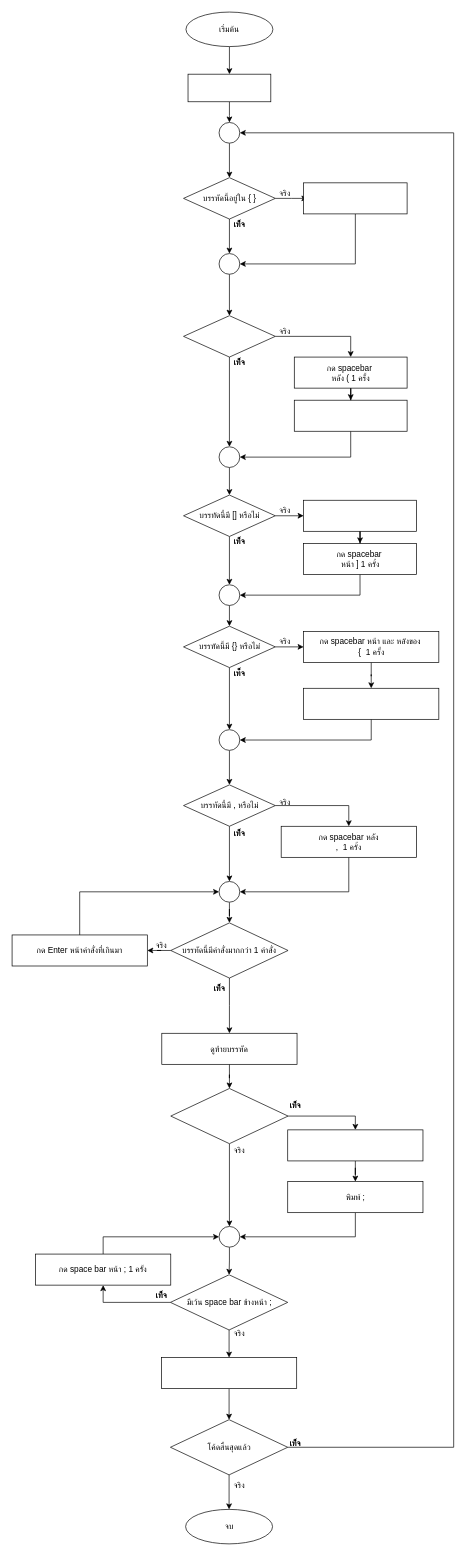
This 471x1556 diagram has some shape labels left out. The centre of each missing label's shape, as x and y in pixels:
กด space bar: the point at 355,1145
กด spacebar หน้า ) 1 ครั้ง: the point at 350,415
กด spacebar หน้า และ หลังของ } 1 ครั้ง: the point at 371,703
กด spacebar หลัง [ 1 ครั้ง: the point at 359,515
กด tab ตามจำนวนชั้นของ {}: the point at 355,198
ดูบรรทัดถัดไป: the point at 229,1373
ดูโค้ดบรรทัดแรก: the point at 229,87
ท้ายบรรทัดมี ;: the point at 229,1116
บรรทัดนี้มี () หรือไม่: the point at 229,336
